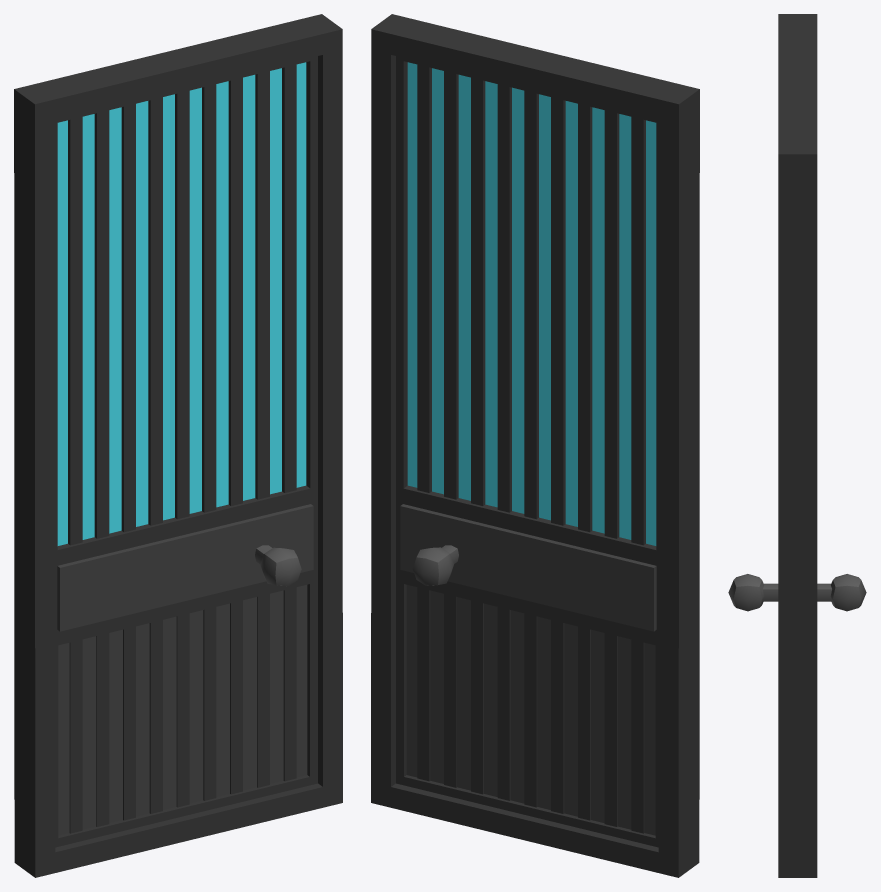
The model's file is SM_Buildings_Office_09_Door_L.fbx.
The picture shows the model from 3 angles, left to right: view 1: azimuth 30°, elevation 25°; view 2: azimuth 150°, elevation 25°; view 3: azimuth 270°, elevation 25°; orthographic projection. The views are drawn at different scales.
Visible parts, largest first — view 1: SM_Buildings_Office_09_Door_L; view 2: SM_Buildings_Office_09_Door_L; view 3: SM_Buildings_Office_09_Door_L.
Boxes of the visible parts, x1,y1,x2,y2 form: SM_Buildings_Office_09_Door_L: (14,14,342,877); SM_Buildings_Office_09_Door_L: (371,14,699,877); SM_Buildings_Office_09_Door_L: (728,14,866,877).
Bounding box in the file's own units: 1.09 × 2.62 × 0.4537.
